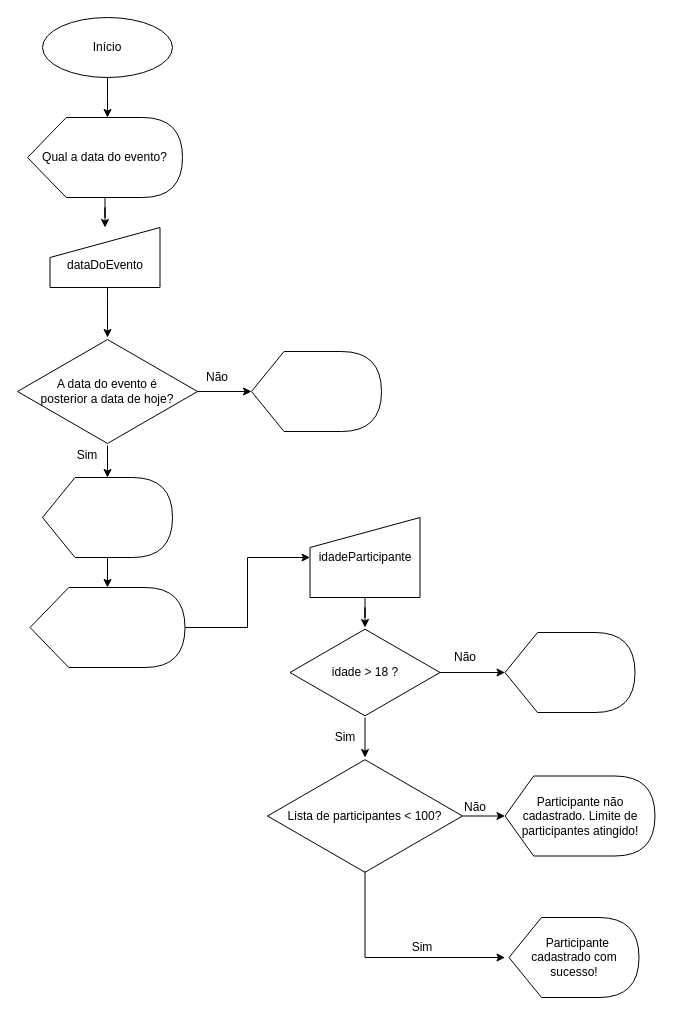
Some shapes in this 673 by 1015 pixel diagram are drawn without their labels. Here are the shapes that lost their labels. From the top down, the centre of each, then its label:
At (316,391): "Evento não permitido! Data inválida.".
At (107,517): "Evento permitido!".
At (107,627): "Cadastro de usuário. Informe a idade do participante:".
At (569,672): "Cadastro inválido. Participante deve ter mais que 18 anos!".
